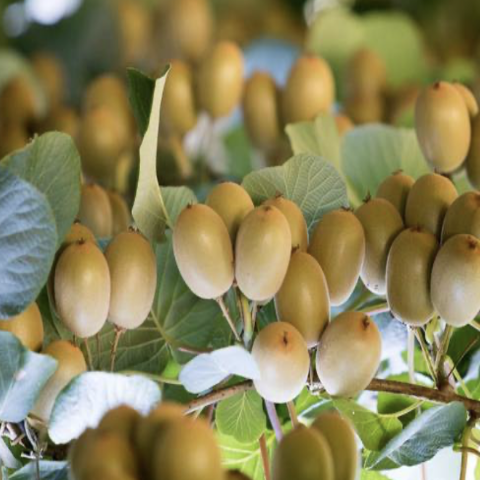kiwi: (380, 208, 453, 337), (171, 192, 241, 324), (94, 227, 166, 339), (315, 301, 388, 403), (223, 208, 292, 312), (412, 76, 476, 182), (53, 230, 110, 344)
